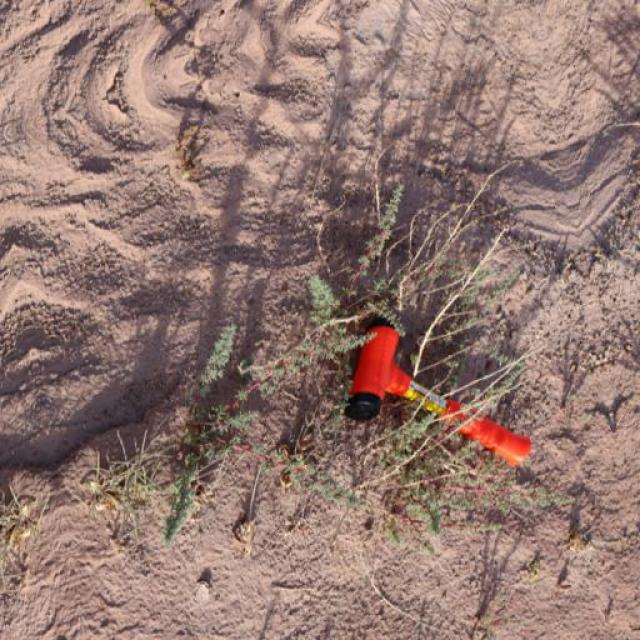mallet: (342, 320, 532, 469)
